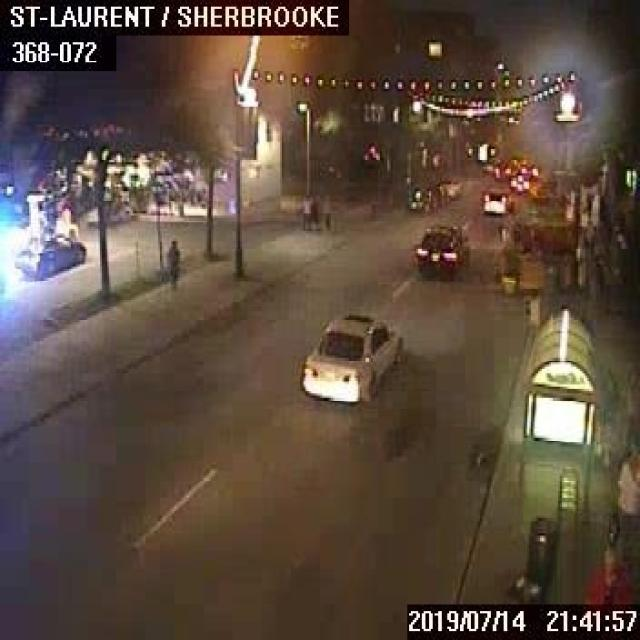pedestrian: (613, 444, 638, 556), (164, 238, 178, 292), (300, 191, 310, 229), (319, 193, 330, 227), (309, 192, 319, 227)
vehicle: (298, 311, 402, 402), (13, 235, 85, 275), (414, 221, 467, 275), (482, 189, 513, 213), (404, 189, 435, 211), (437, 176, 460, 196), (508, 171, 529, 191), (517, 158, 537, 176), (492, 159, 510, 177), (480, 156, 498, 173)
